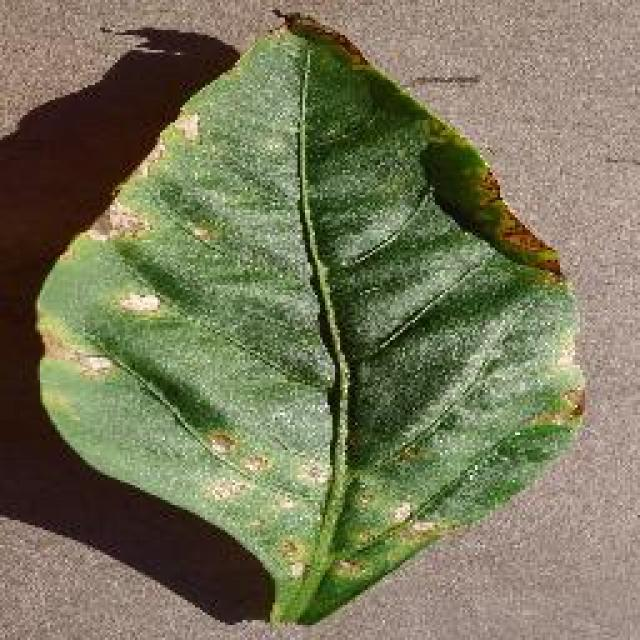Chilli_Bacterial_Spot: (30, 10, 590, 628), (195, 422, 277, 508), (268, 5, 370, 70), (490, 202, 562, 278), (528, 380, 588, 432), (272, 532, 310, 582), (200, 473, 250, 505), (115, 288, 163, 318), (325, 552, 370, 582), (170, 107, 202, 145), (558, 382, 588, 420), (475, 162, 503, 200), (238, 448, 272, 478), (205, 428, 237, 458), (385, 498, 415, 528), (185, 220, 213, 248), (275, 535, 300, 563)
